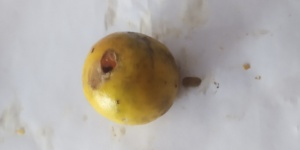BAD: (80, 28, 179, 123)
